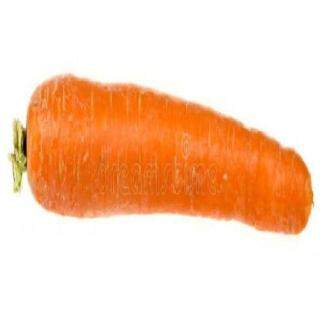carrot: (13, 71, 313, 239)
